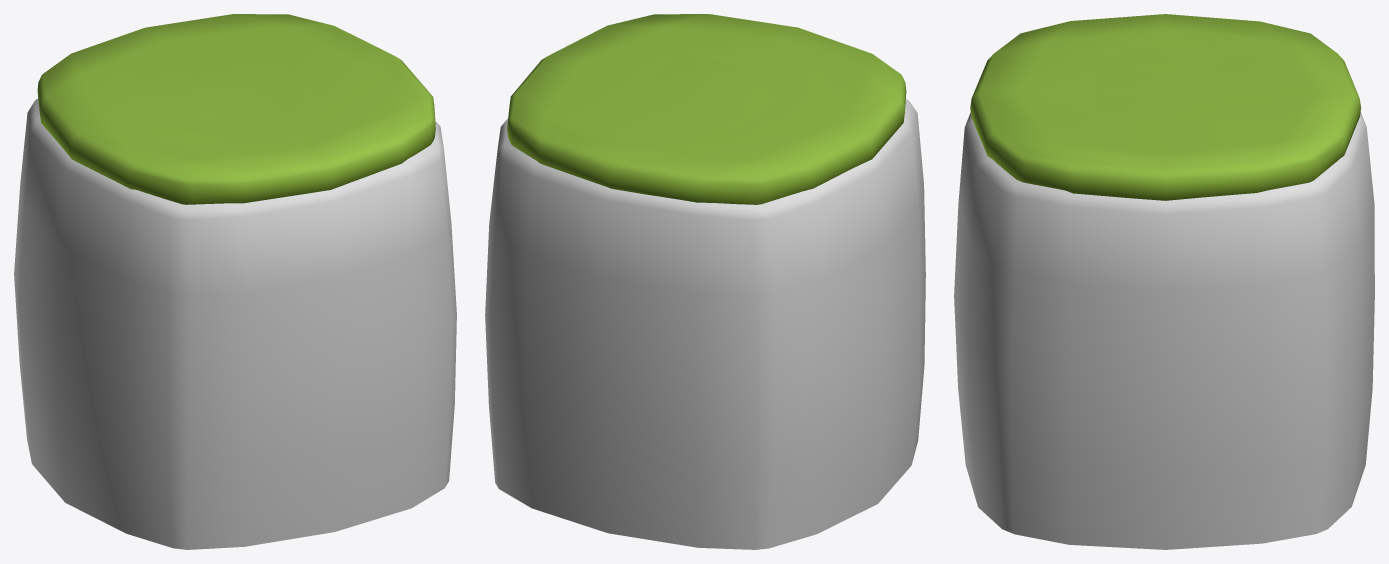
Rendered from casualCliffGroup.fbx.
The picture shows the model from 3 angles, left to right: view 1: azimuth 30°, elevation 25°; view 2: azimuth 150°, elevation 25°; view 3: azimuth 270°, elevation 25°; orthographic projection.
Visible parts, largest first — view 1: cliff1c, grass_1a.001, grass_1a, grass_1b; view 2: cliff1c, grass_1a.001, grass_1b, grass_1a; view 3: cliff1c, grass_1a.001, grass_1b, grass_1a.
Boxes of the visible parts, x1,y1,x2,y2 form: cliff1c: (14, 98, 456, 549); grass_1a.001: (37, 14, 435, 204); grass_1a: (146, 58, 326, 131); grass_1b: (144, 54, 328, 131); cliff1c: (485, 99, 925, 549); grass_1a.001: (507, 14, 906, 204); grass_1b: (615, 54, 798, 131); grass_1a: (614, 82, 793, 131); cliff1c: (954, 112, 1374, 549); grass_1a.001: (970, 14, 1361, 200); grass_1b: (1094, 62, 1235, 121); grass_1a: (1094, 61, 1235, 121).
Size of the model in its own units: 312 by 305 by 311.
Materials: 2 (1 with a texture image).
